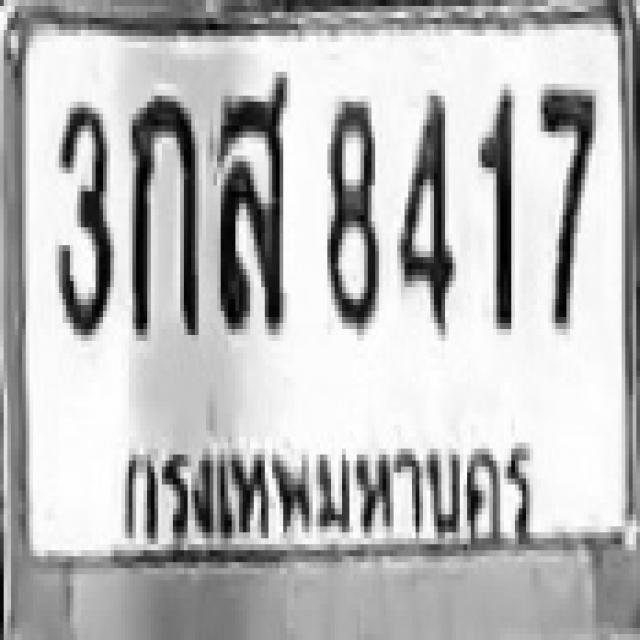1: (474, 84, 515, 329)
10GorGai: (129, 90, 195, 335)
3: (51, 96, 110, 335)
4: (398, 90, 452, 329)
49SorSuea: (215, 69, 289, 326)
7: (537, 87, 596, 326)
8: (324, 96, 375, 329)
Bangkok: (106, 426, 544, 558)
